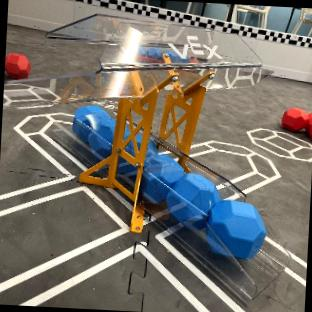V5_BLUE: (207, 199, 265, 258), (165, 173, 219, 224), (71, 105, 114, 157), (139, 154, 182, 201)
V5_RED: (281, 106, 312, 137), (4, 53, 29, 79)
